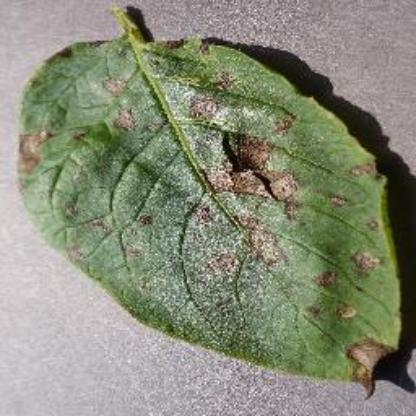Early-Blight: (16, 9, 412, 396)
